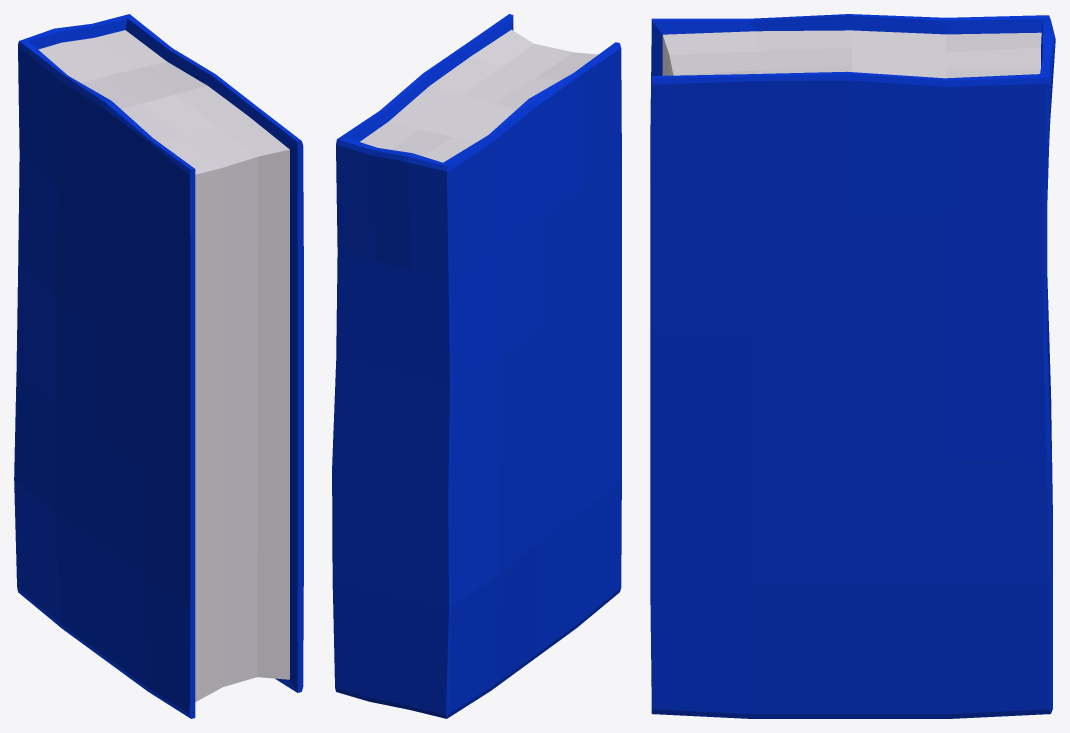
File: book_closed.fbx
The picture shows the model from 3 angles, left to right: view 1: azimuth 30°, elevation 25°; view 2: azimuth 150°, elevation 25°; view 3: azimuth 270°, elevation 25°; orthographic projection. The views are drawn at different scales.
Visible parts, largest first — view 1: Cube.015; view 2: Cube.015; view 3: Cube.015.
Boxes of the visible parts, x1=… form: Cube.015: x1=14, y1=14, x2=303, y2=718; Cube.015: x1=332, y1=14, x2=621, y2=718; Cube.015: x1=650, y1=14, x2=1055, y2=718.
Size of the model in its own units: 5.9 by 25.41 by 14.48.
